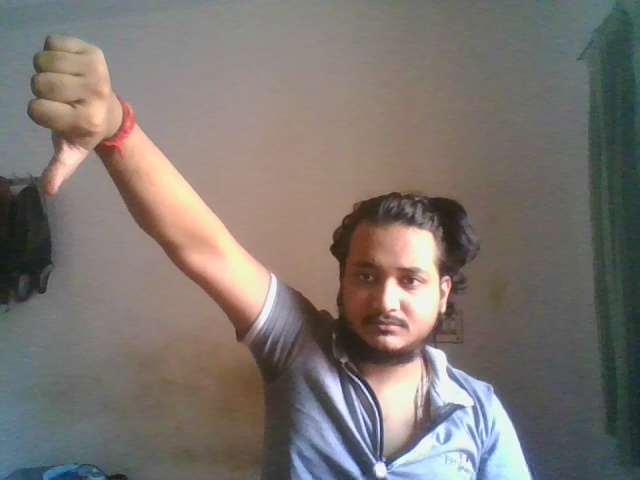ThumbsDown: (28, 32, 116, 198)
